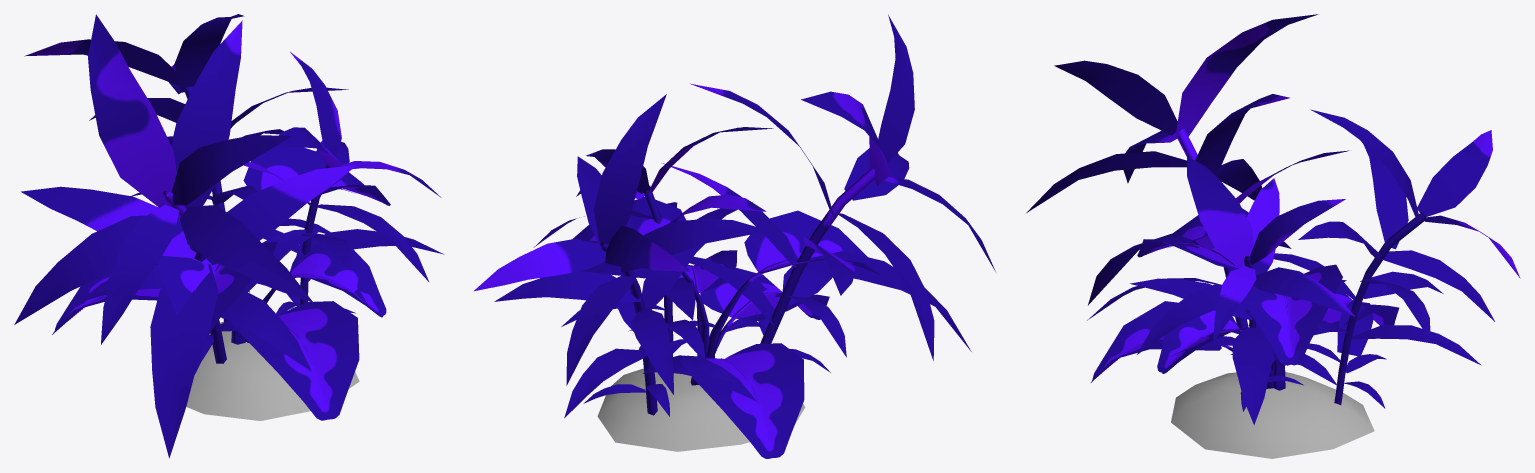
Rendered from Volcanic PlantsLarge.fbx.
The picture shows the model from 3 angles, left to right: view 1: azimuth 30°, elevation 25°; view 2: azimuth 150°, elevation 25°; view 3: azimuth 270°, elevation 25°; orthographic projection. The views are drawn at different scales.
Visible parts, largest first — view 1: Large_Volcanic_Plant1, Large_Volcanic_Plant2; view 2: Large_Volcanic_Plant1, Large_Volcanic_Plant2; view 3: Large_Volcanic_Plant1, Large_Volcanic_Plant2.
Part boxes in pixels (box(x1,y1,x2,y2)): Large_Volcanic_Plant1: box(14, 14, 444, 458); Large_Volcanic_Plant2: box(52, 147, 390, 420); Large_Volcanic_Plant1: box(474, 14, 995, 451); Large_Volcanic_Plant2: box(572, 196, 880, 458); Large_Volcanic_Plant1: box(1026, 14, 1520, 458); Large_Volcanic_Plant2: box(1091, 208, 1398, 390).
Size of the model in its own units: 23.94 by 20.32 by 26.2.
Materials: 2 (1 with a texture image).
